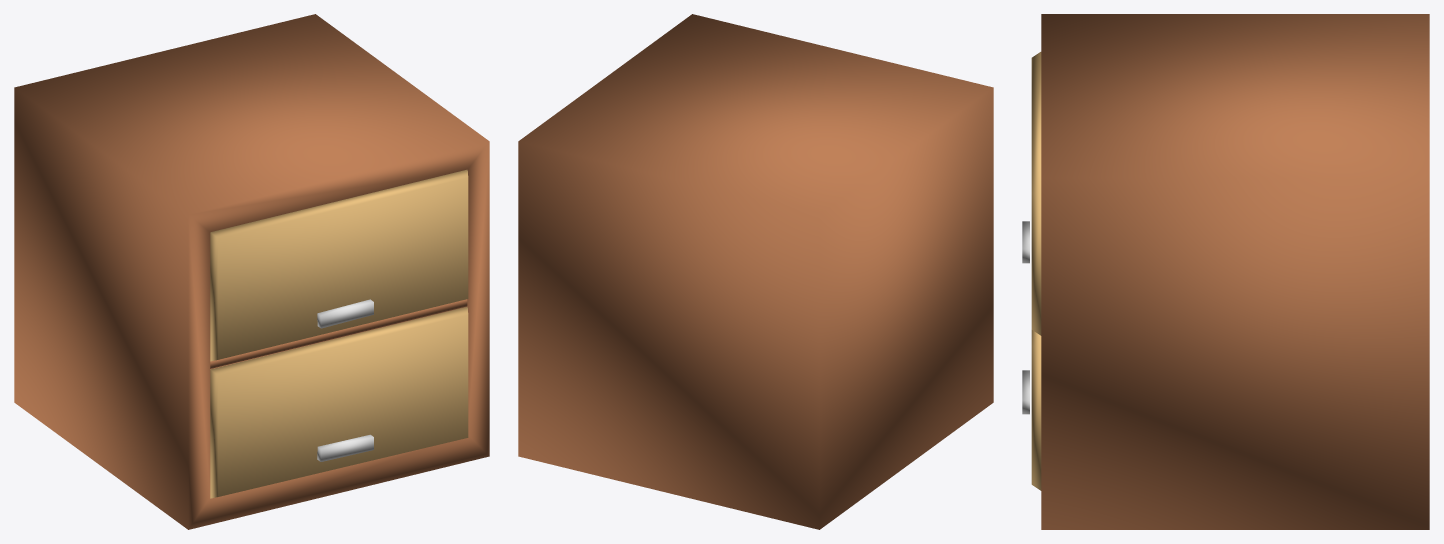
Rendered from Horizontal.Upper.B.fbx.
The picture shows the model from 3 angles, left to right: view 1: azimuth 30°, elevation 25°; view 2: azimuth 150°, elevation 25°; view 3: azimuth 270°, elevation 25°; orthographic projection. The views are drawn at different scales.
Visible parts, largest first — view 1: Horizontal.Upper.B; view 2: Horizontal.Upper.B; view 3: Horizontal.Upper.B.
Part boxes in pixels (box(x1,y1,x2,y2)): Horizontal.Upper.B: box(14, 14, 489, 529); Horizontal.Upper.B: box(518, 14, 993, 529); Horizontal.Upper.B: box(1022, 14, 1429, 529).
Size of the model in its own units: 88.61 by 88.61 by 92.98.
